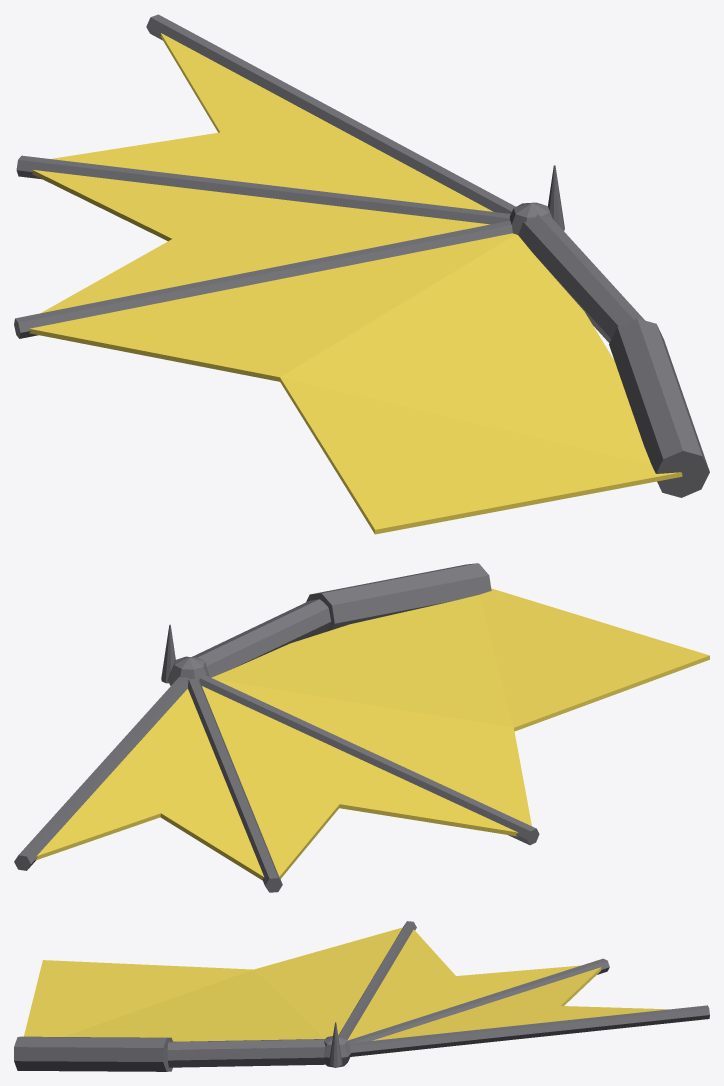
Rendered from dragon_wing.glb.
3 views of the same model, one above another, from view 1: azimuth 30°, elevation 25°; view 2: azimuth 150°, elevation 25°; view 3: azimuth 270°, elevation 25° (orthographic). The views are drawn at different scales.
Visible parts, largest first — view 1: model; view 2: model; view 3: model.
Part boxes in pixels (<box>): model: <box>14,14,709,534</box>; model: <box>14,563,709,892</box>; model: <box>14,921,709,1071</box>.
Size of the model in its own units: 6.44 by 1.62 by 12.13.
